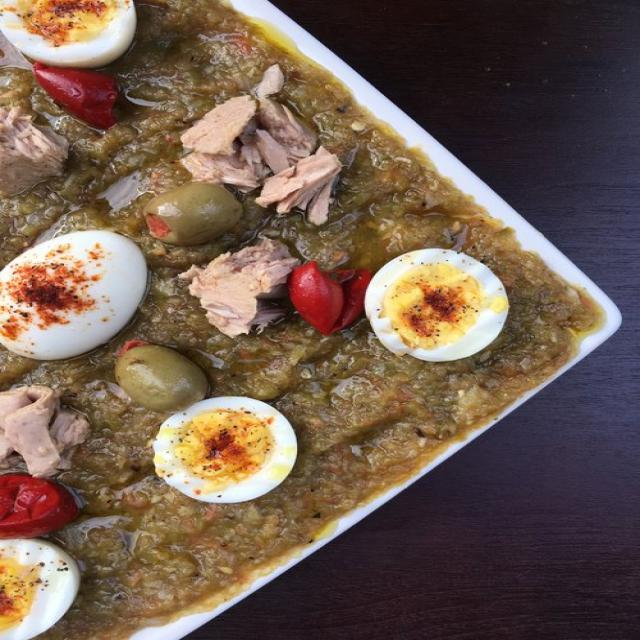Salade mechweya: (0, 0, 620, 640)
